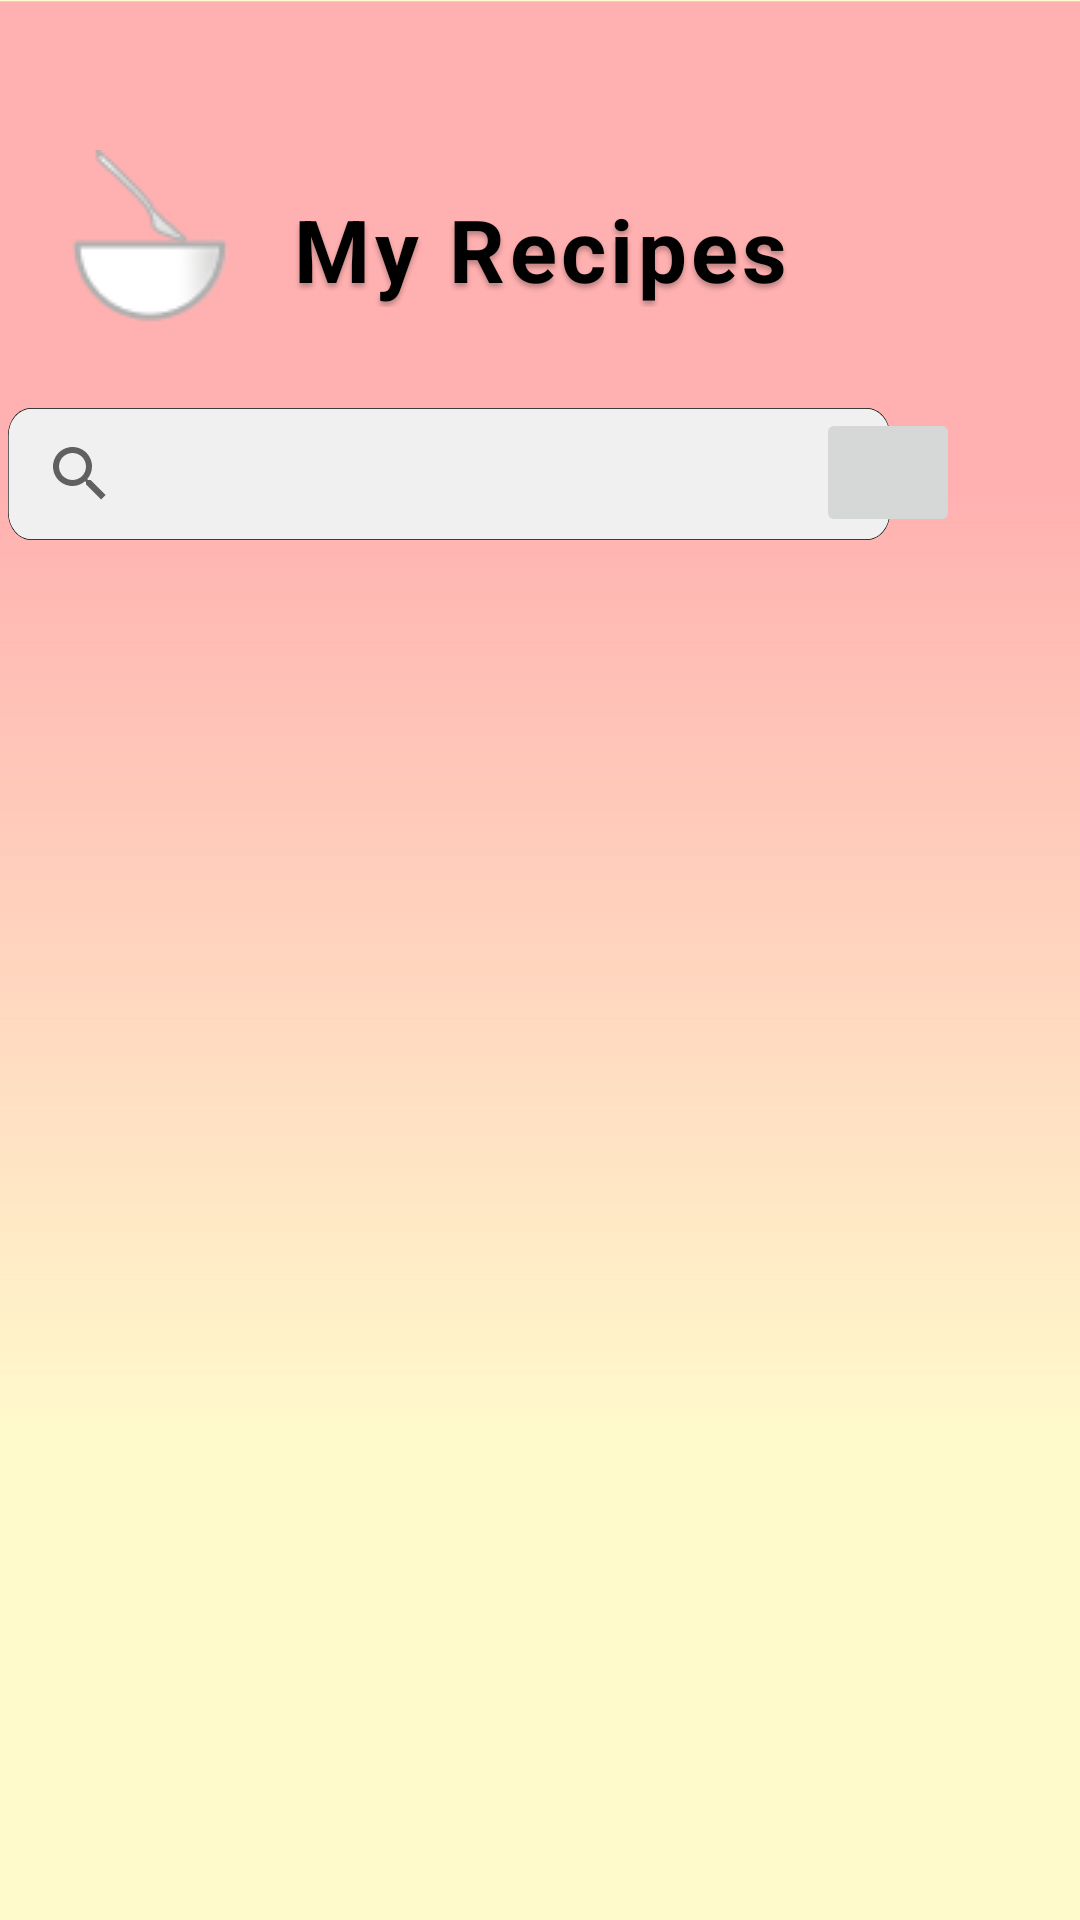

Icons on this 1080 x 1920 Android screen, each with its box as (x1, y1, x2, y2):
recipe page bowl: (74, 150, 226, 321)
